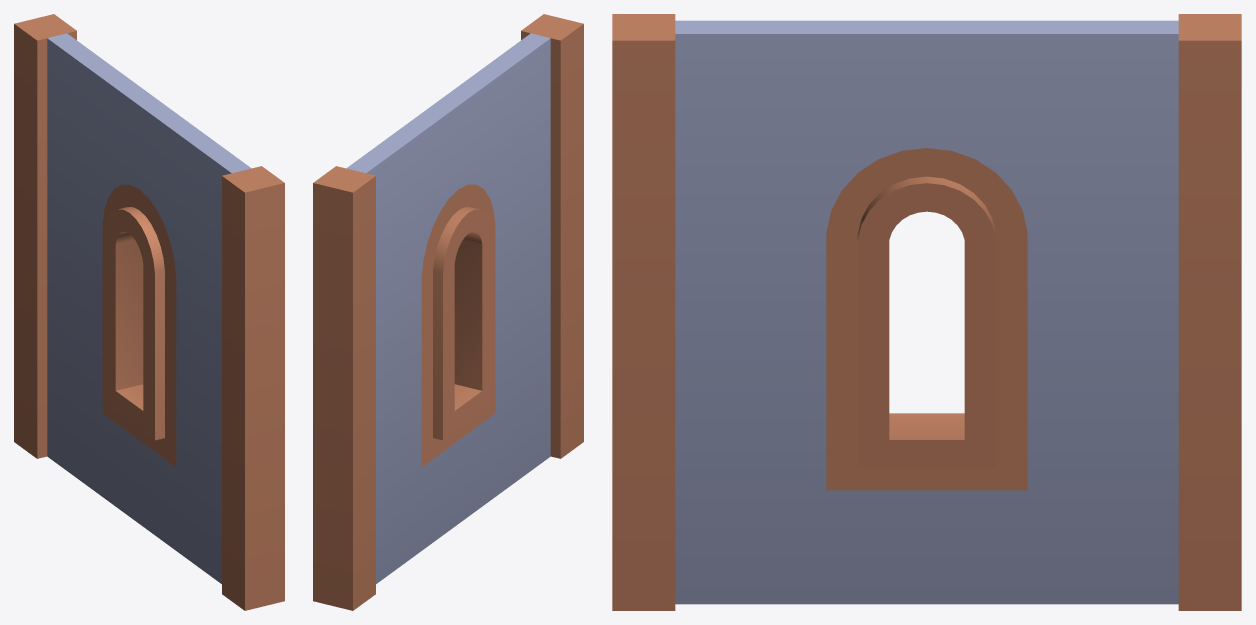
The model's file is wall-window-round.glb.
3 renders of one model, left to right at view 1: azimuth 30°, elevation 25°; view 2: azimuth 150°, elevation 25°; view 3: azimuth 270°, elevation 25°, orthographic. The views are drawn at different scales.
Parts seen in each view (by area): view 1: wall-window-round; view 2: wall-window-round; view 3: wall-window-round.
Boxes of the visible parts, x1,y1,x2,y2 form: wall-window-round: [14, 14, 284, 610]; wall-window-round: [313, 14, 583, 610]; wall-window-round: [612, 14, 1241, 610].
Bounding box in the file's own units: 0.1 × 1 × 1.
Materials: 1 (1 with a texture image).
